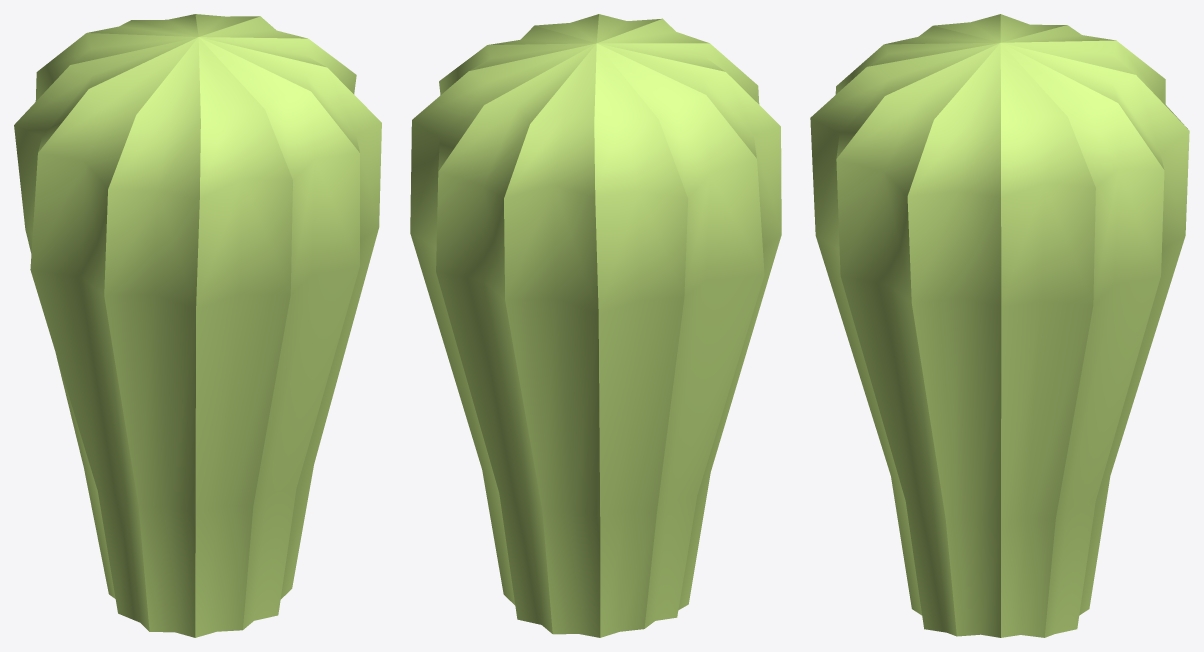
File: Cactus.fbx
The picture shows the model from 3 angles, left to right: view 1: azimuth 30°, elevation 25°; view 2: azimuth 150°, elevation 25°; view 3: azimuth 270°, elevation 25°; orthographic projection.
Parts seen in each view (by area): view 1: Cactus; view 2: Cactus; view 3: Cactus.
Part boxes in pixels (bbox=[...]): Cactus: bbox=[14, 14, 381, 637]; Cactus: bbox=[410, 14, 781, 637]; Cactus: bbox=[810, 14, 1189, 637].
Size of the model in its own units: 40.07 by 66.04 by 39.93.
1 material, 1 textured.
